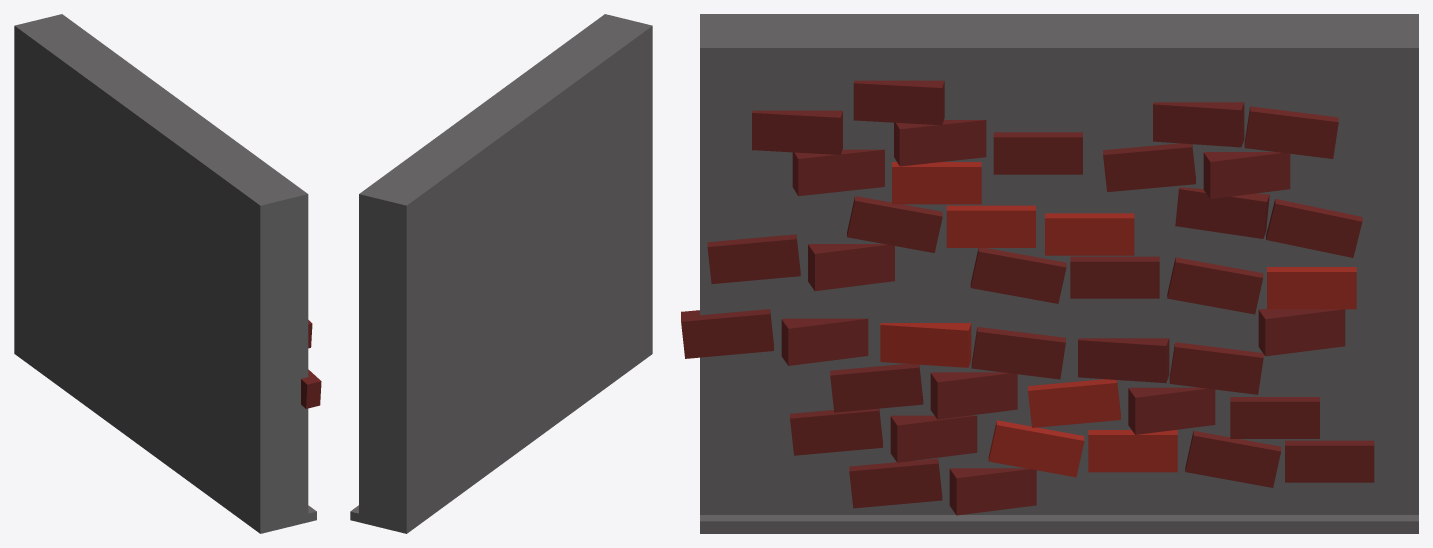
Rendered from Wall.glb.
3 renders of one model, left to right at view 1: azimuth 30°, elevation 25°; view 2: azimuth 150°, elevation 25°; view 3: azimuth 270°, elevation 25°, orthographic. The views are drawn at different scales.
Visible parts, largest first — view 1: Cube; view 2: Cube; view 3: Cube.
Part boxes in pixels (bbox=[...]): Cube: bbox=[14, 14, 321, 533]; Cube: bbox=[350, 14, 652, 533]; Cube: bbox=[681, 14, 1418, 533].
Size of the model in its own units: 1.12 by 5.68 by 7.91.
